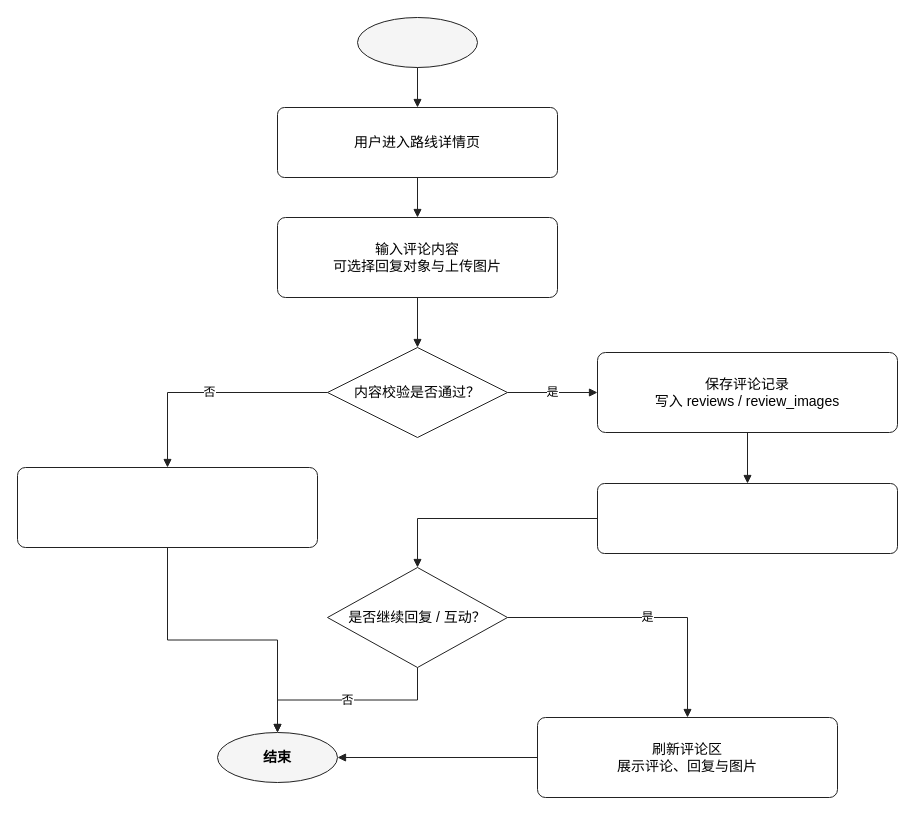
Image size: 915x815. Some labels were removed from this diagram. Each missing label, with the centre of its shape:
开始: the point at 417,42
更新评论数与互动展示: the point at 747,518
返回错误提示 要求重新编辑内容: the point at 167,507
